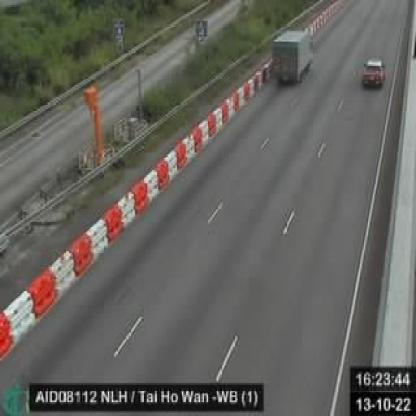Car: (362, 55, 386, 89)
Truck: (272, 25, 315, 86)
